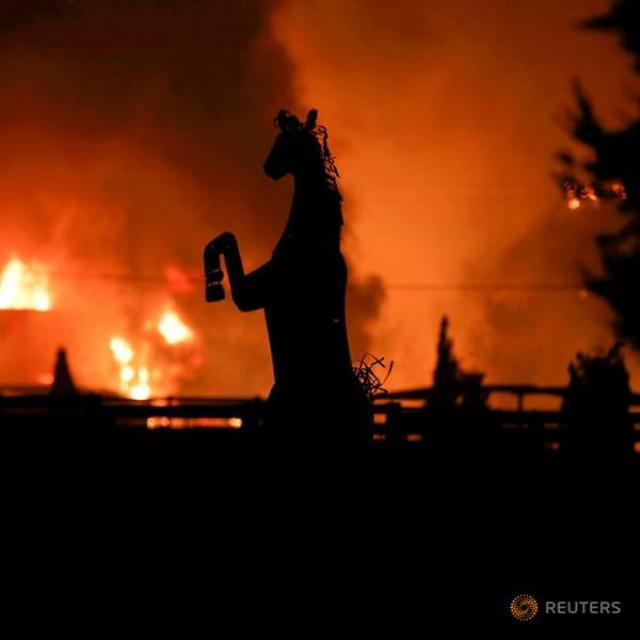Fire: (0, 226, 207, 428)
Smoke: (346, 12, 596, 322)
